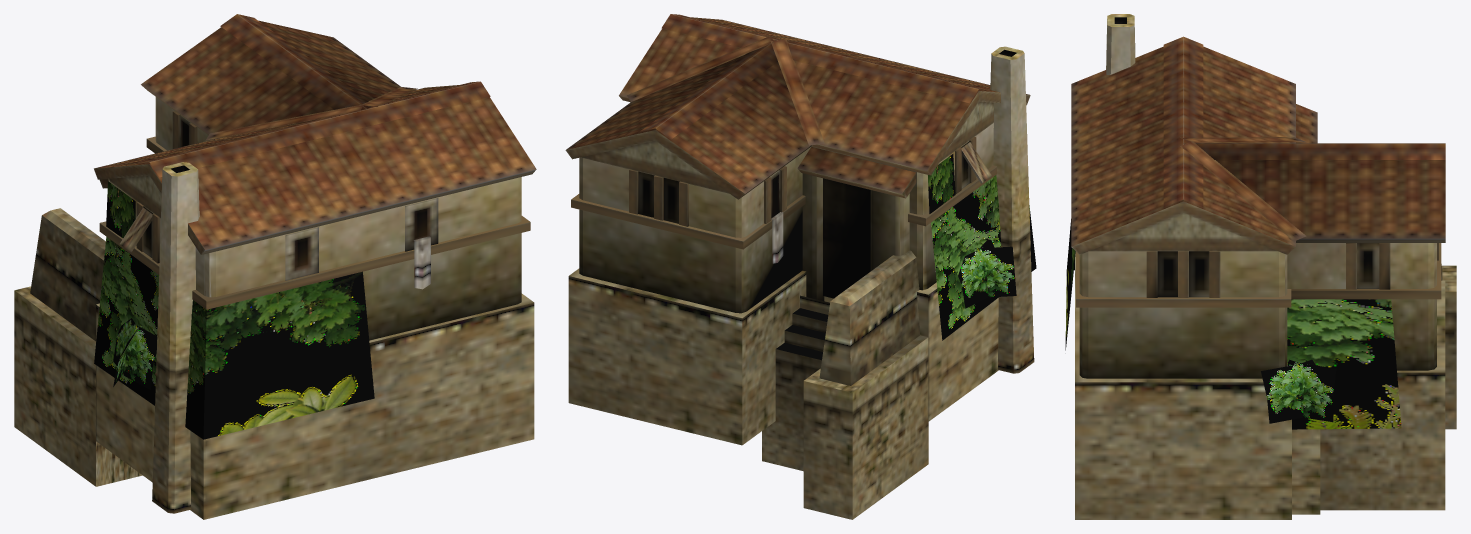
Rendered from spart_house.glb.
The picture shows the model from 3 angles, left to right: view 1: azimuth 30°, elevation 25°; view 2: azimuth 150°, elevation 25°; view 3: azimuth 270°, elevation 25°; orthographic projection. The views are drawn at different scales.
Parts seen in each view (by area): view 1: spart_house_part0, spart_house_part1; view 2: spart_house_part0, spart_house_part1; view 3: spart_house_part0, spart_house_part1.
Boxes of the visible parts, x1,y1,x2,y2 form: spart_house_part0: [14, 14, 536, 519]; spart_house_part1: [94, 181, 374, 439]; spart_house_part0: [565, 14, 1034, 519]; spart_house_part1: [928, 154, 1036, 340]; spart_house_part0: [1071, 14, 1456, 519]; spart_house_part1: [1065, 219, 1401, 429].
Bounding box in the file's own units: 2.4 × 2.26 × 2.09.
2 materials, 2 textured.
